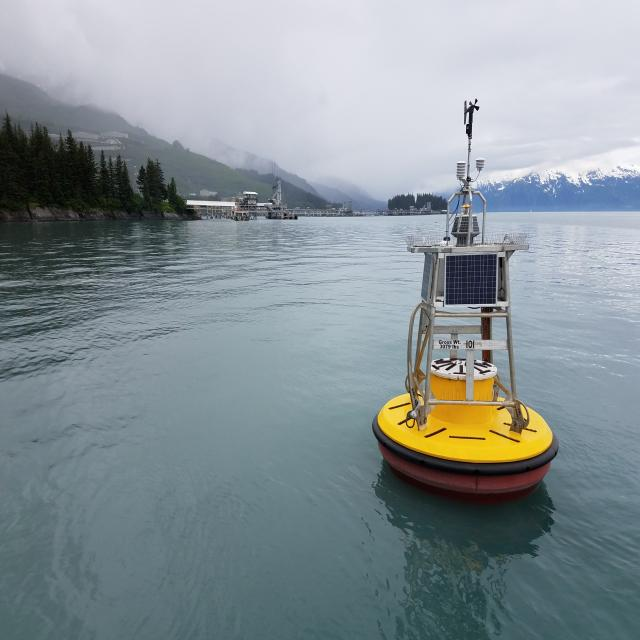Buoy: (379, 69, 552, 498)
